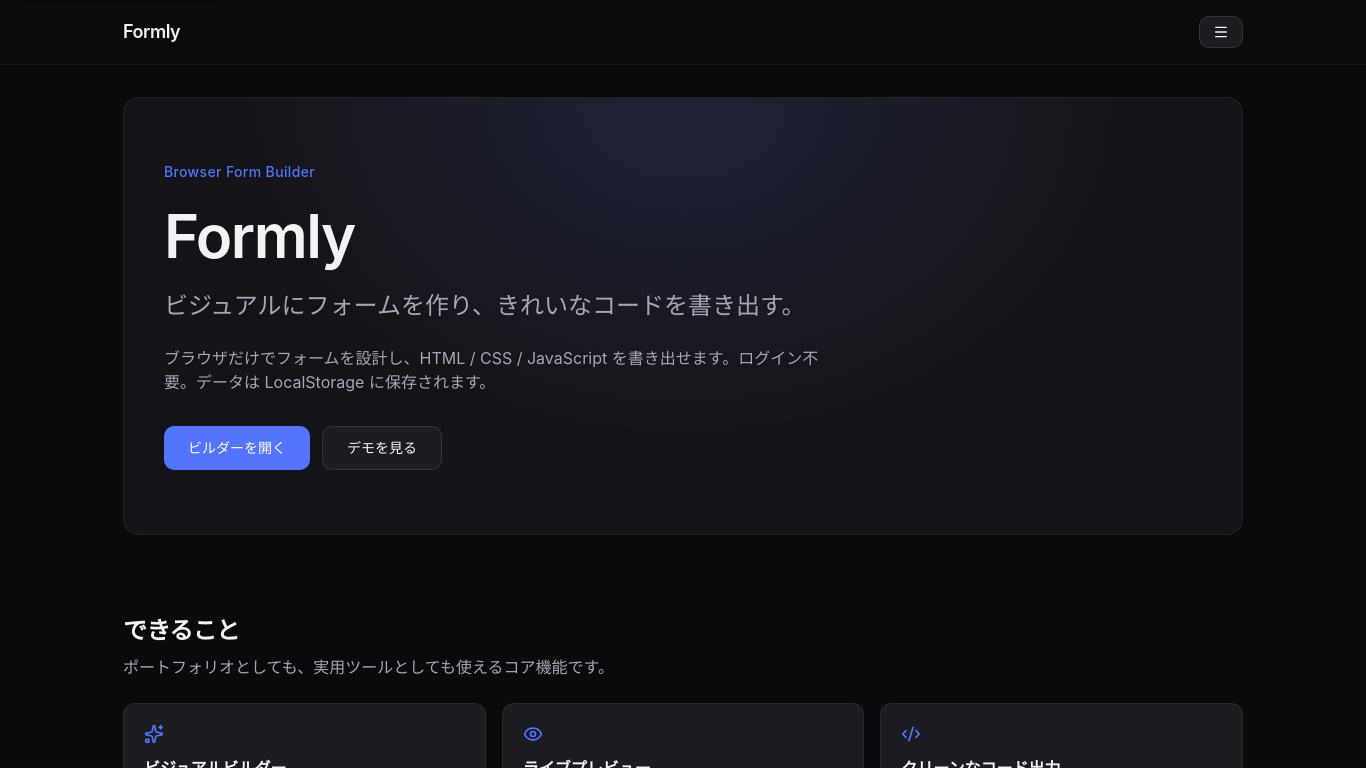
Test case: AppShell accessibility › opens the mobile navigation sheet
Click the button named "メニューを開く": (1221, 32) top-left (1199, 16), bottom-right (1243, 48)
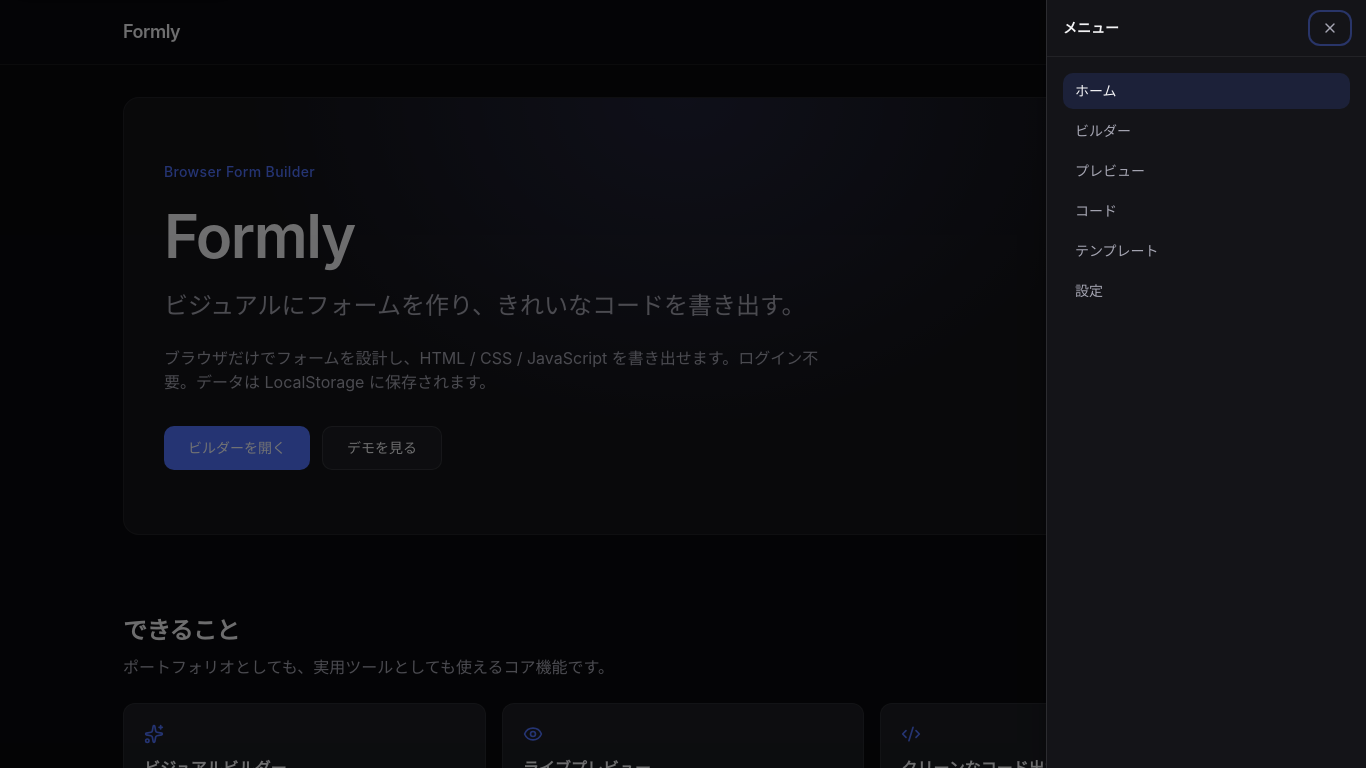
Expected: the dialog "メニュー" is shown, top-left (1046, 0), bottom-right (1365, 767)
Expected: the link "ビルダー" is shown, top-left (1075, 122), bottom-right (1131, 139)
